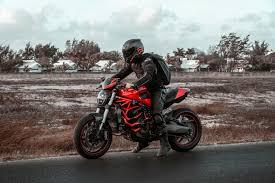Helmet: (122, 38, 143, 63)
